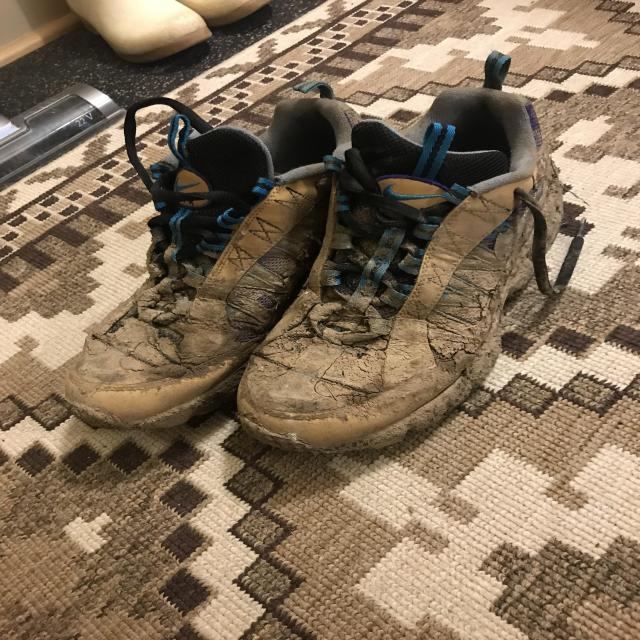shoe: (233, 51, 568, 456), (60, 56, 340, 454)
